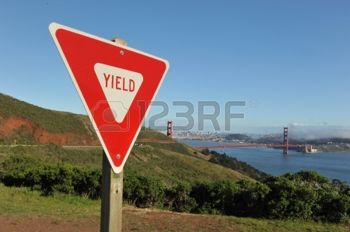yield_sign: (48, 21, 169, 174)
